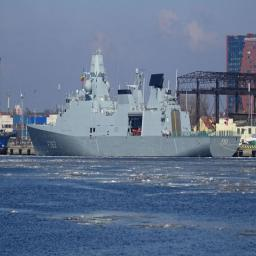Fragata: (26, 46, 243, 161)
